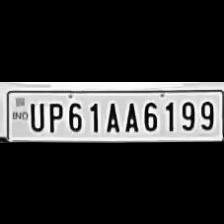1: (85, 98, 101, 132), (160, 97, 176, 131)
6: (64, 98, 84, 132), (139, 97, 159, 131)
9: (196, 96, 216, 130), (178, 97, 196, 130)
A: (102, 98, 122, 132), (120, 98, 138, 132)
P: (45, 98, 63, 132)
U: (26, 98, 44, 132)
